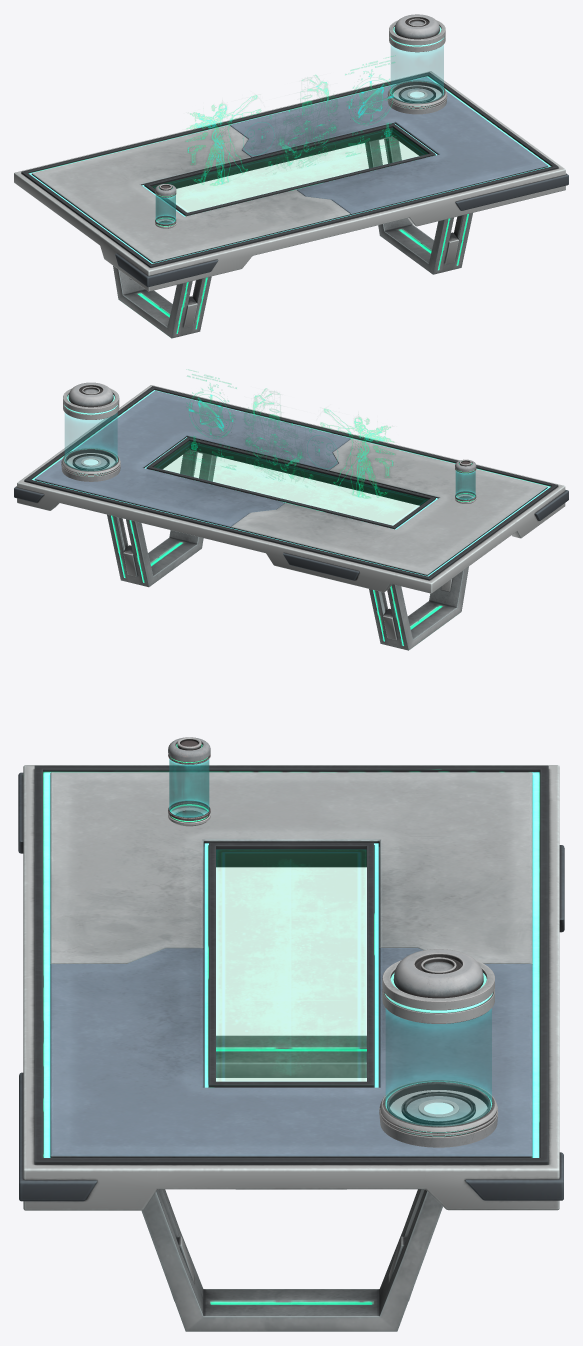
File: mesa.glb
3 views of the same model, one above another, from view 1: azimuth 30°, elevation 25°; view 2: azimuth 150°, elevation 25°; view 3: azimuth 270°, elevation 25° (orthographic). The views are drawn at different scales.
Parts seen in each view (by area): view 1: Object_21.001; view 2: Object_21.001; view 3: Object_21.001.
Part boxes in pixels (bbox=[...]): Object_21.001: bbox=[14, 14, 568, 338]; Object_21.001: bbox=[14, 369, 568, 650]; Object_21.001: bbox=[18, 737, 564, 1331].
Size of the model in its own units: 2.65 by 1.22 by 1.49.
6 materials, 6 textured.
